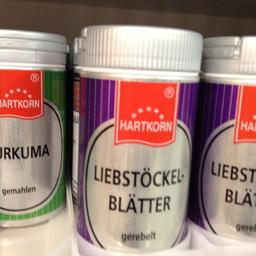spices: (72, 23, 201, 255), (0, 28, 69, 228)
